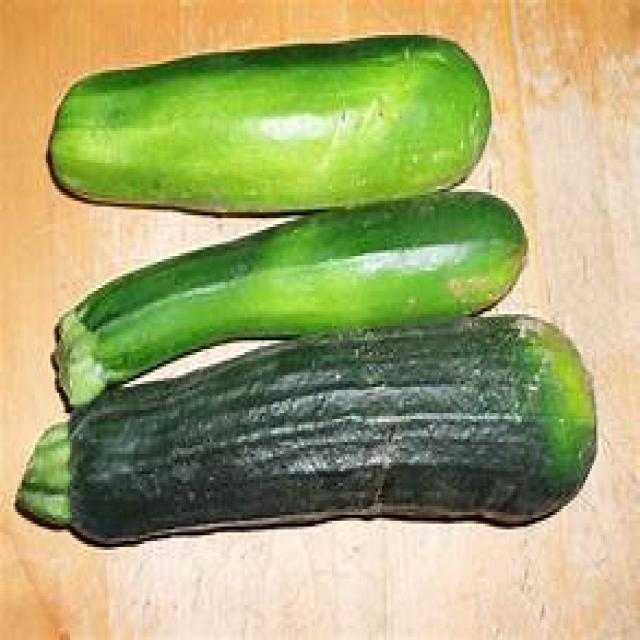Zucchini: (40, 55, 492, 197)
